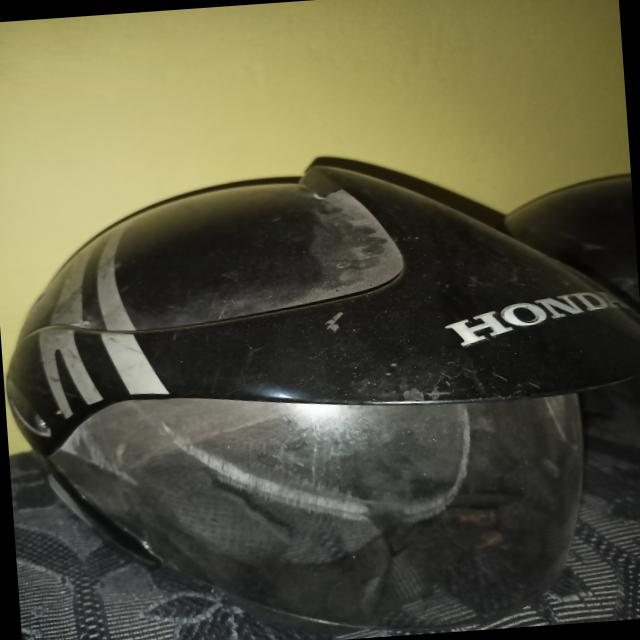plastic_box: (4, 88, 640, 638)
